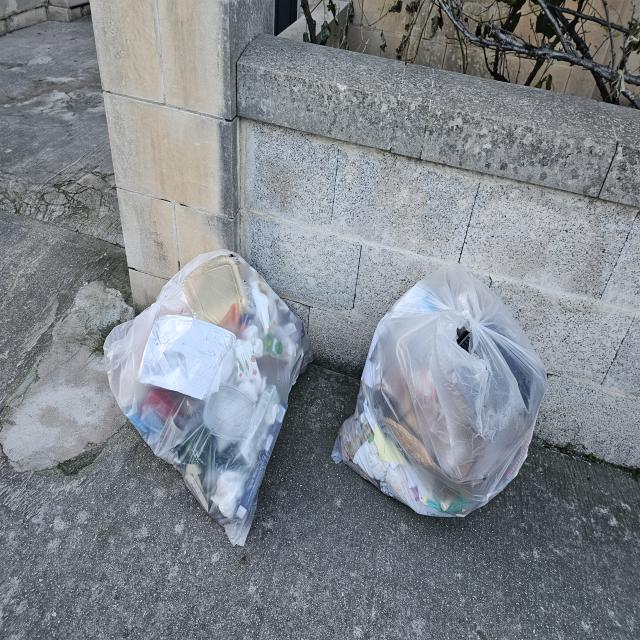grey_bag: (101, 247, 315, 550), (330, 256, 550, 522)
